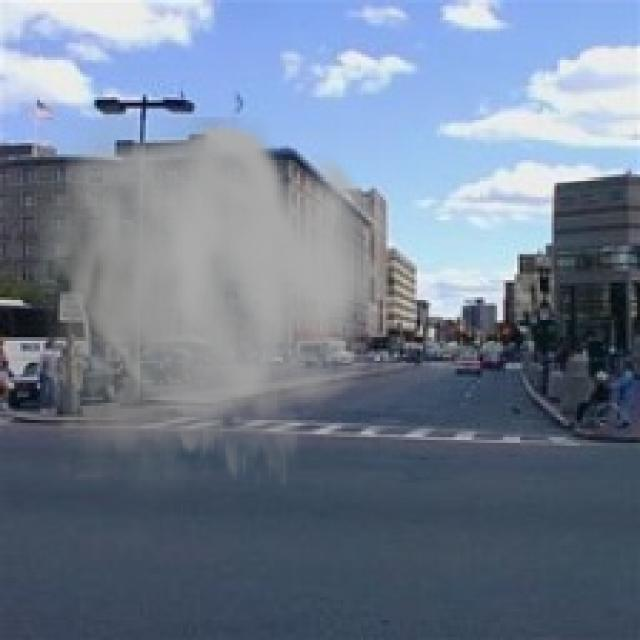Smoke: (14, 117, 394, 526)
